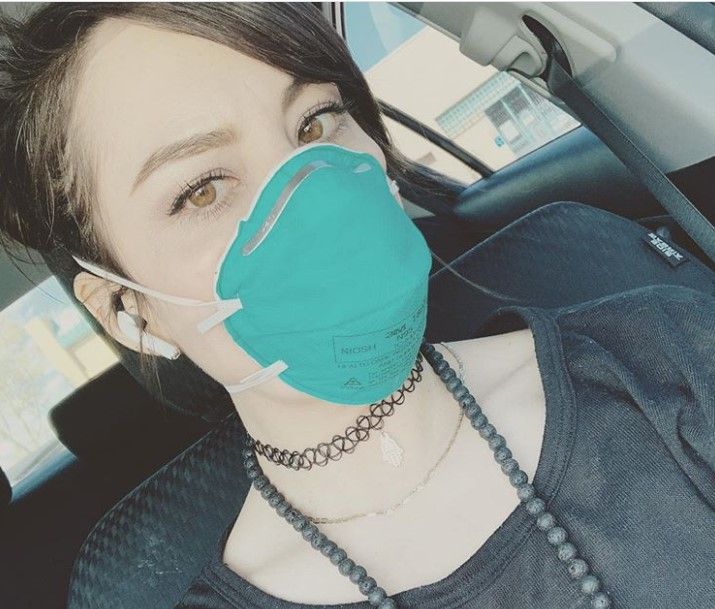face_with_mask: (15, 7, 445, 422)
